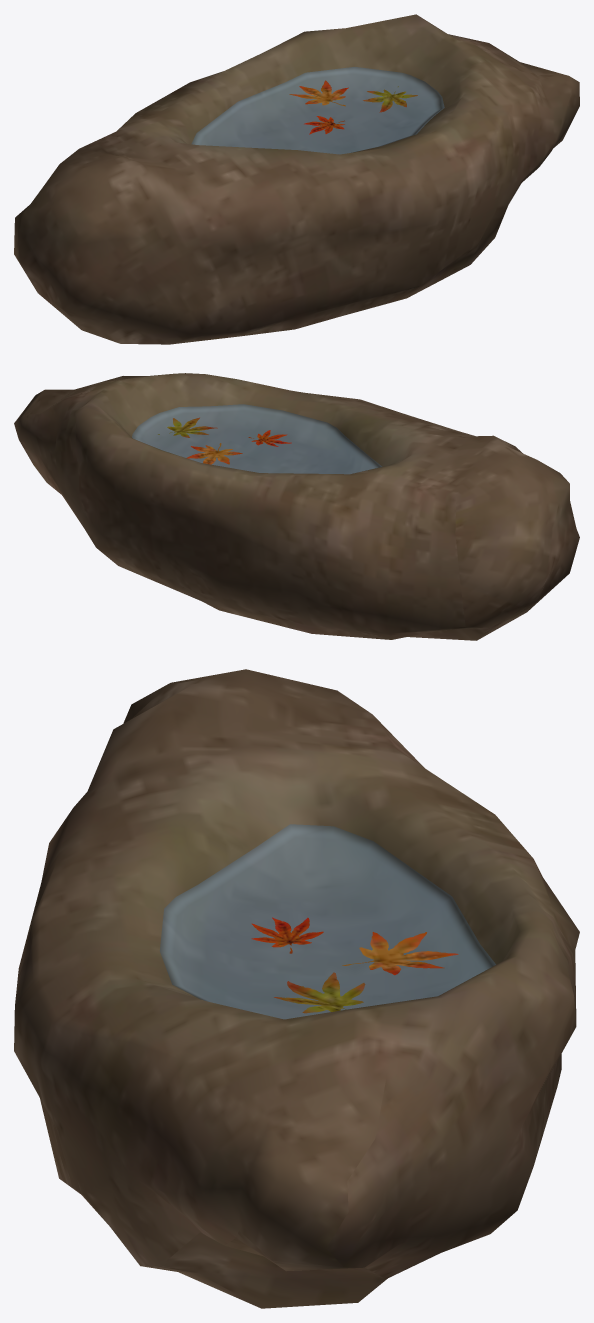
The model's file is pond-stone-maple.glb.
The picture shows the model from 3 angles, top to bottom: view 1: azimuth 30°, elevation 25°; view 2: azimuth 150°, elevation 25°; view 3: azimuth 270°, elevation 25°; orthographic projection. The views are drawn at different scales.
Size of the model in its own units: 18.04 by 5.95 by 8.91.
3 materials, 2 textured.
